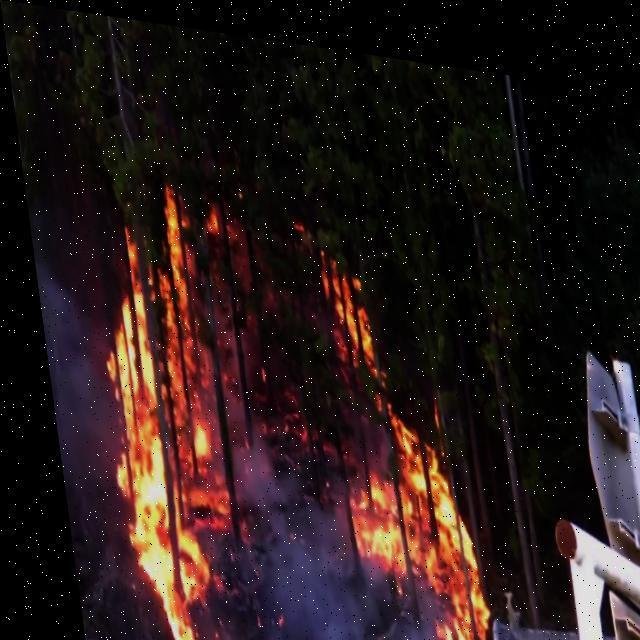Fire: (60, 167, 237, 639), (310, 239, 484, 639), (202, 206, 215, 226)
